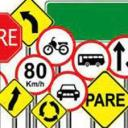Pare: (14, 56, 58, 91)
